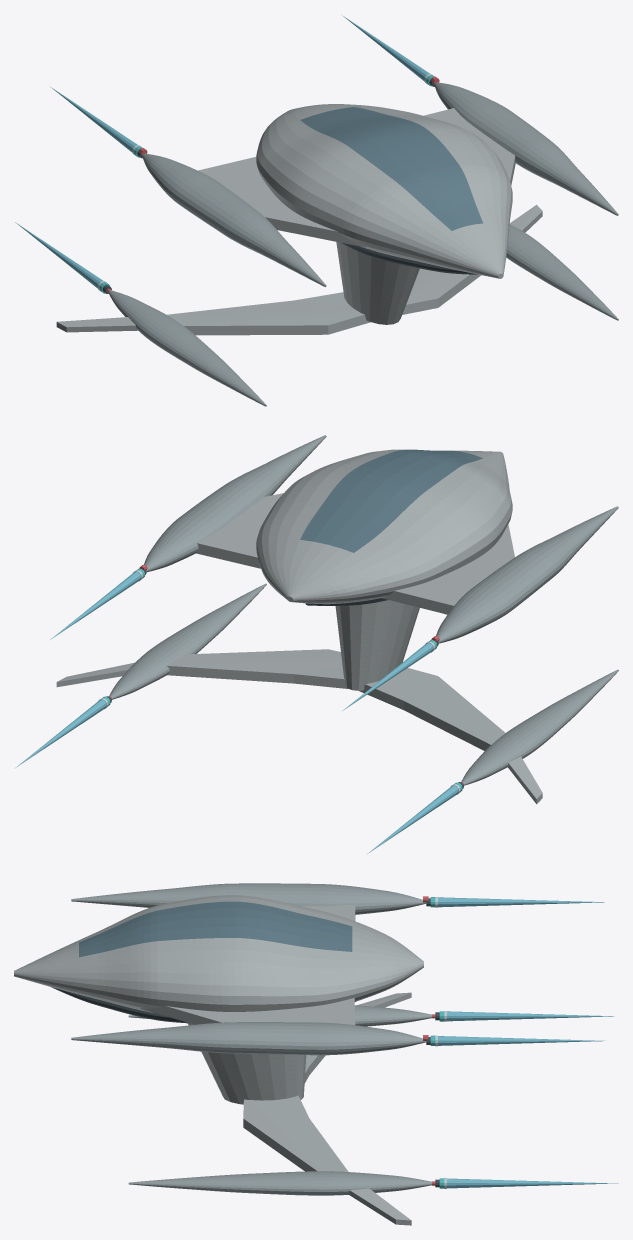
Rendered from arma_silver_flight.glb.
The picture shows the model from 3 angles, top to bottom: view 1: azimuth 30°, elevation 25°; view 2: azimuth 150°, elevation 25°; view 3: azimuth 270°, elevation 25°; orthographic projection. The views are drawn at different scales.
Parts seen in each view (by area): view 1: material_0, material_3, material_1, material_7, material_2; view 2: material_0, material_3, material_1, material_7; view 3: material_0, material_3, material_1, material_7, material_2.
Part boxes in pixels (bbox=[...]): material_0: bbox=[56, 104, 542, 335]; material_3: bbox=[108, 82, 618, 406]; material_1: bbox=[300, 107, 482, 230]; material_7: bbox=[15, 15, 430, 288]; material_2: bbox=[102, 79, 477, 293]; material_0: bbox=[56, 449, 542, 804]; material_3: bbox=[109, 435, 618, 785]; material_1: bbox=[300, 449, 482, 552]; material_7: bbox=[15, 571, 458, 853]; material_0: bbox=[14, 895, 423, 1225]; material_3: bbox=[71, 883, 431, 1195]; material_1: bbox=[79, 901, 352, 957]; material_7: bbox=[438, 897, 618, 1188]; material_2: bbox=[51, 898, 439, 1187].
Size of the model in its own units: 4.8 by 1.91 by 5.39.
